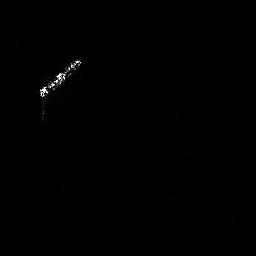ship: (36, 57, 85, 99)
